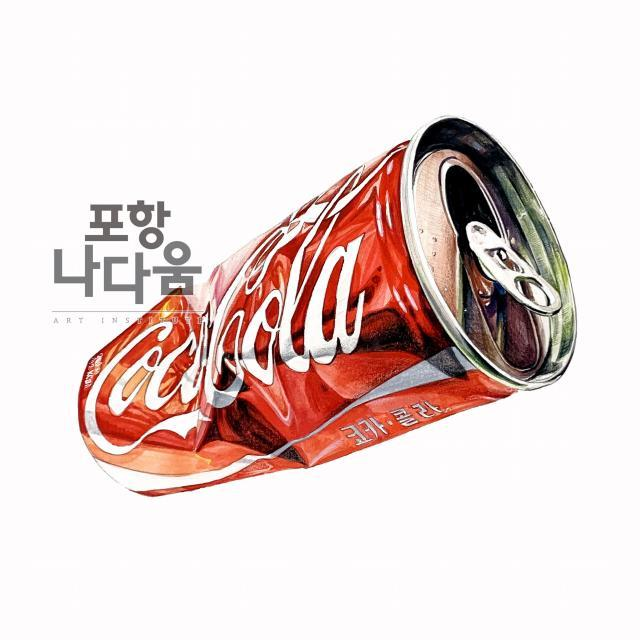coca-cola: (78, 116, 580, 502)
